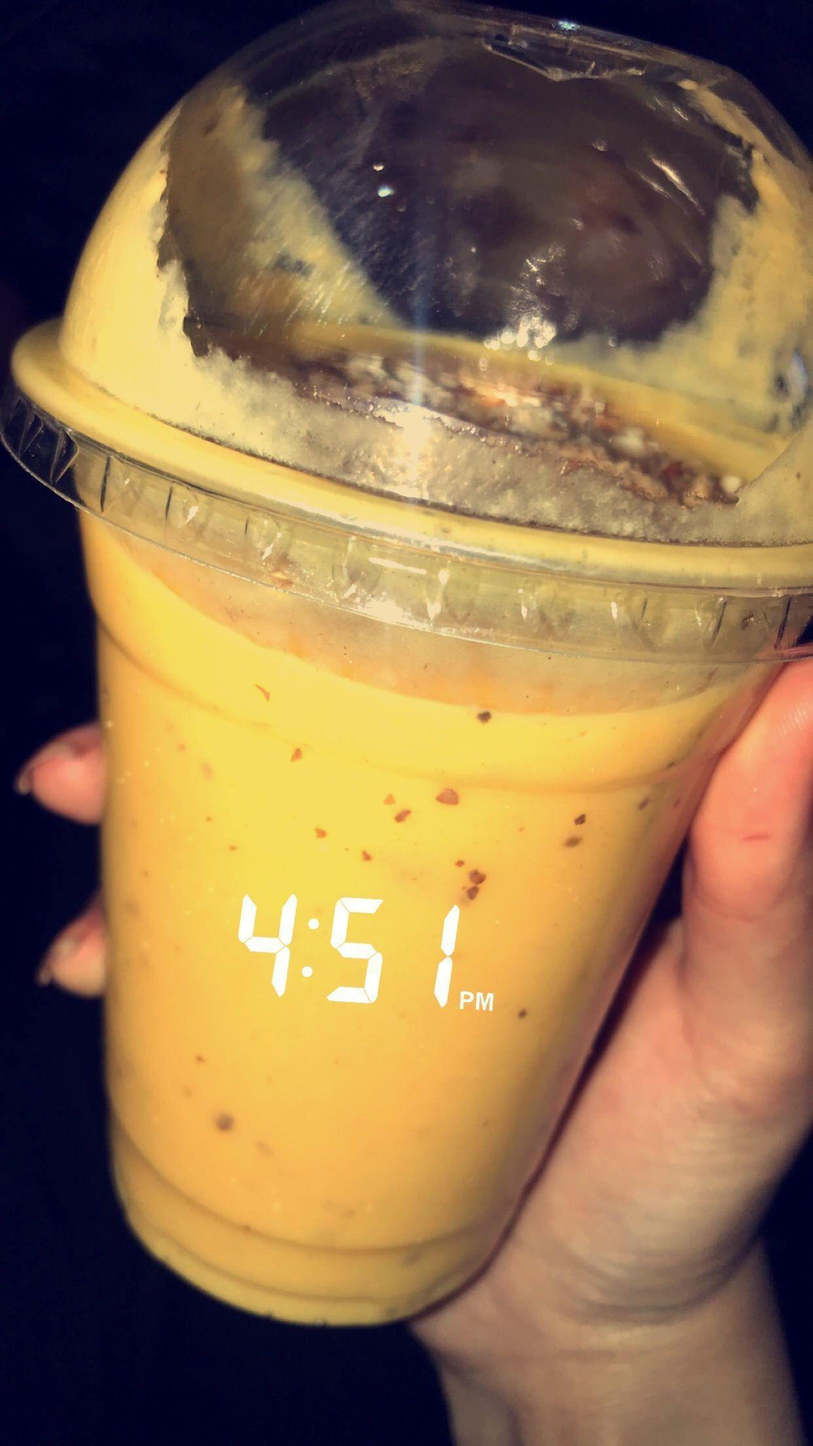cup-disposable: (1, 1, 812, 1331)
